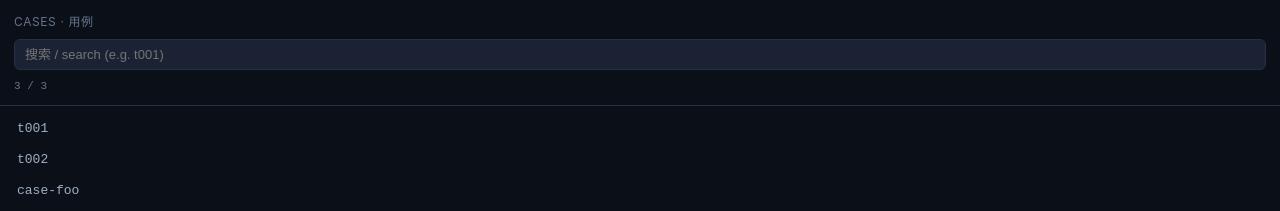
Test case: CasePicker › filters cases by the search query (case-insensitive)
In the search field named "Search cases": (640, 54) x1=14 y1=39 x2=1266 y2=70, type "T00"
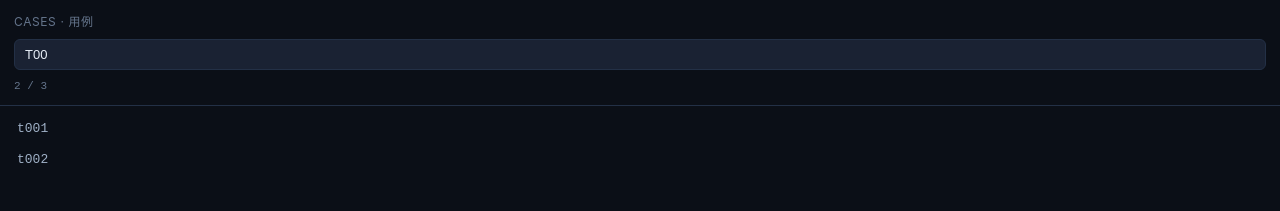
Expected: the text "t001" is shown, x1=17 y1=120 x2=48 y2=136
Result: the button "case-foo" is gone
Result: the text "2 / 3" is shown at x1=14 y1=80 x2=47 y2=92
